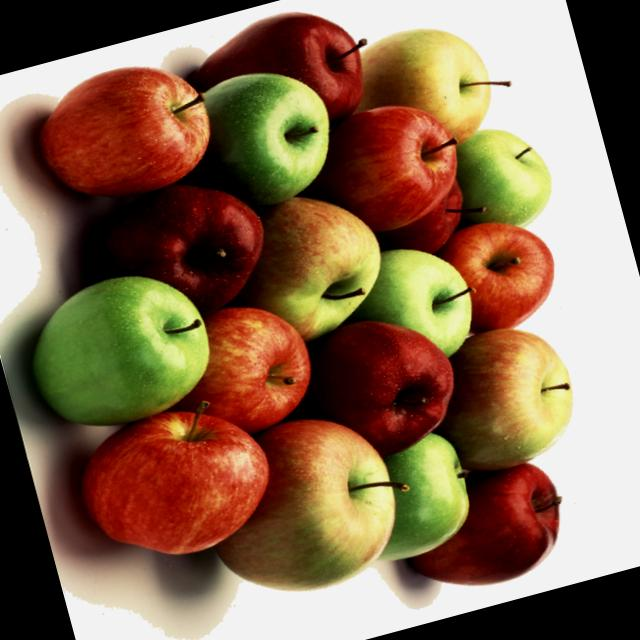alpple: (188, 400, 418, 610), (65, 388, 284, 578), (11, 255, 227, 446), (18, 45, 226, 219), (388, 441, 588, 604), (296, 304, 474, 474), (428, 310, 604, 480), (288, 90, 474, 249), (144, 290, 322, 449), (229, 185, 398, 352), (180, 56, 346, 220), (439, 210, 568, 342)
